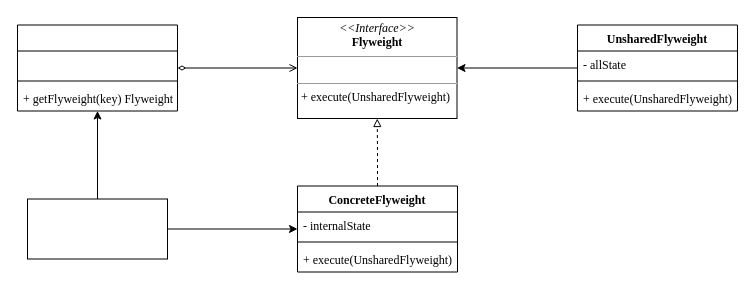
This 755x292 diagram has some shape labels left out. Each missing label, with the box of its shape:
Client: (26, 198, 168, 259)
FlyweightFactory: (16, 24, 178, 111)
